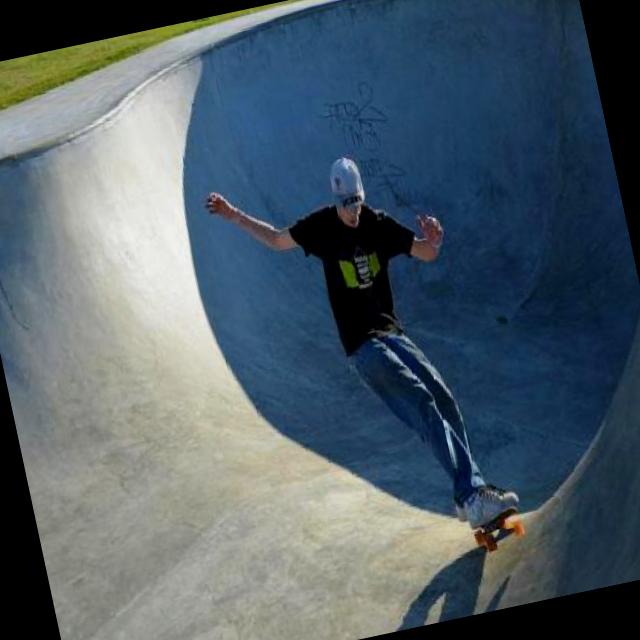Person: (202, 134, 524, 568)
